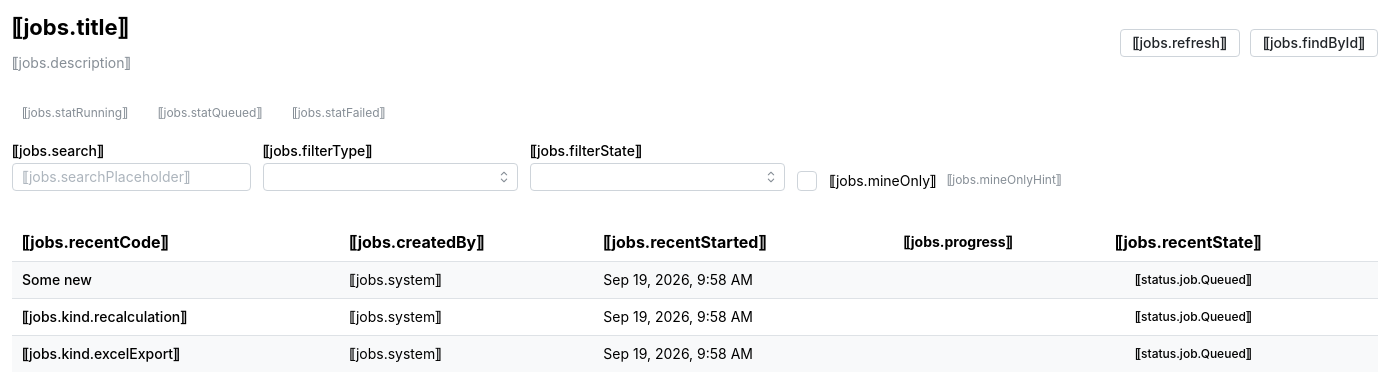
Test: JobsPage: варіанти фільтра «Types» › за абеткою підписів (у тесті каталог порожній, тож «⟦ключ⟧» передує слову), невідомий тип — словами
Click the field labelled "⟦jobs.filterType⟧" at (390,177), box [263,163,518,191]
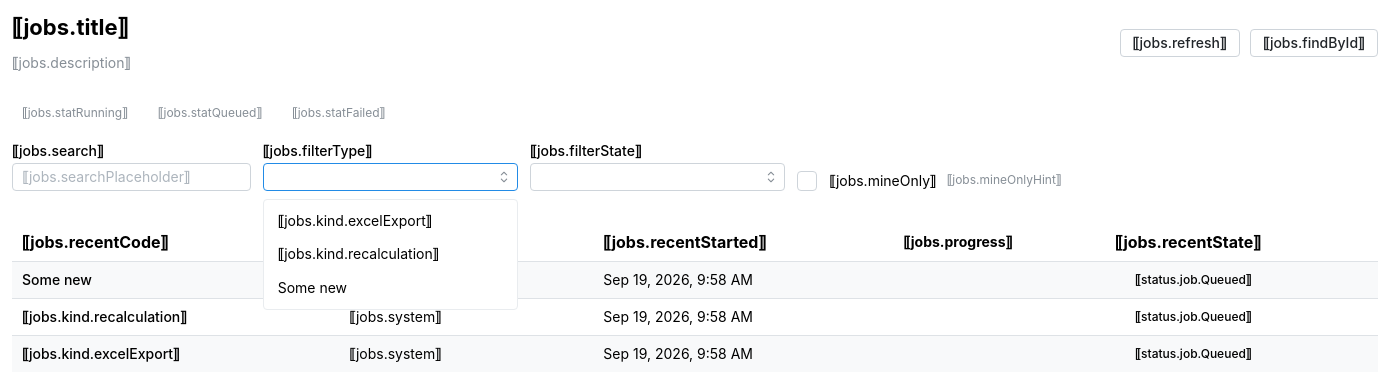
Expected: the options read "⟦jobs.kind.excelExport⟧", "⟦jobs.kind.recalculation⟧", "Some new", in this order, [278,212,432,229]; [278,245,439,262]; [278,279,347,296]
